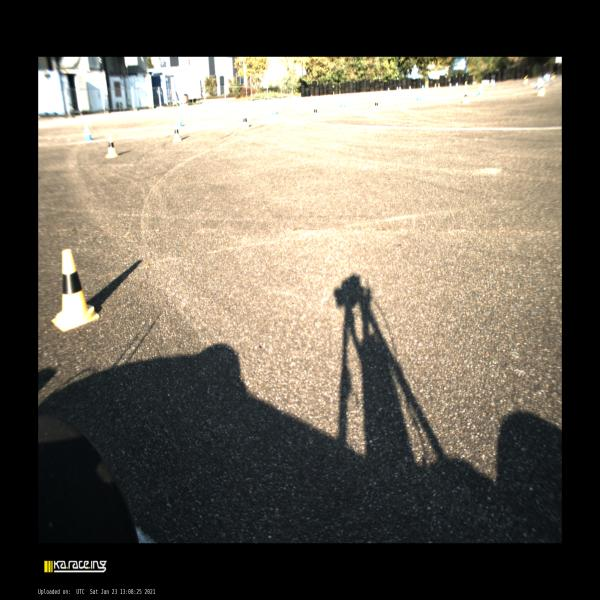blue_cone: (83, 124, 93, 140), (535, 77, 541, 90), (272, 105, 278, 116), (340, 97, 346, 108), (178, 115, 183, 127), (478, 85, 483, 95), (417, 92, 421, 100), (491, 80, 495, 87), (421, 84, 424, 90), (455, 82, 458, 88), (387, 87, 390, 92), (449, 83, 452, 88), (409, 85, 411, 91), (399, 86, 401, 91), (396, 86, 398, 91)
yellow_cone: (52, 249, 100, 332), (104, 134, 118, 158), (172, 124, 182, 143), (537, 82, 545, 97), (242, 113, 249, 129), (312, 105, 319, 119), (463, 90, 469, 103), (374, 98, 379, 112), (523, 76, 528, 84), (490, 80, 493, 86), (434, 83, 436, 89), (438, 83, 440, 88), (465, 81, 467, 86)
